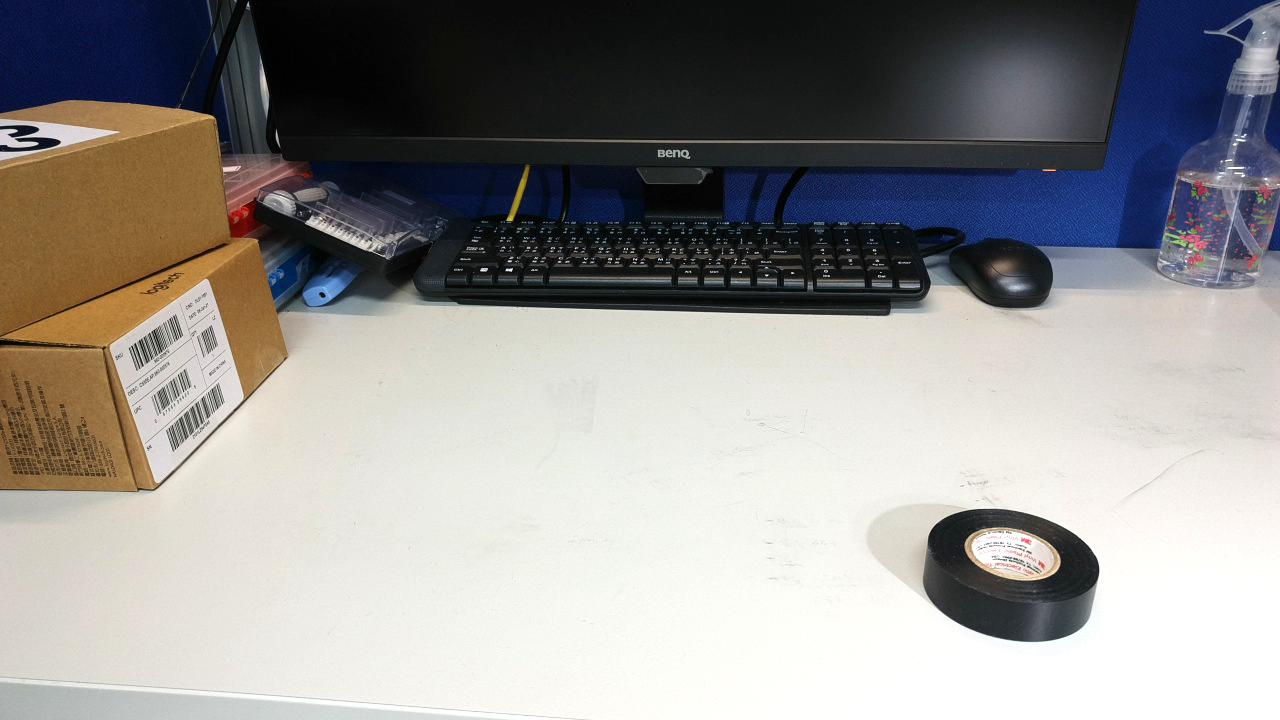long: (977, 395, 1092, 501)
